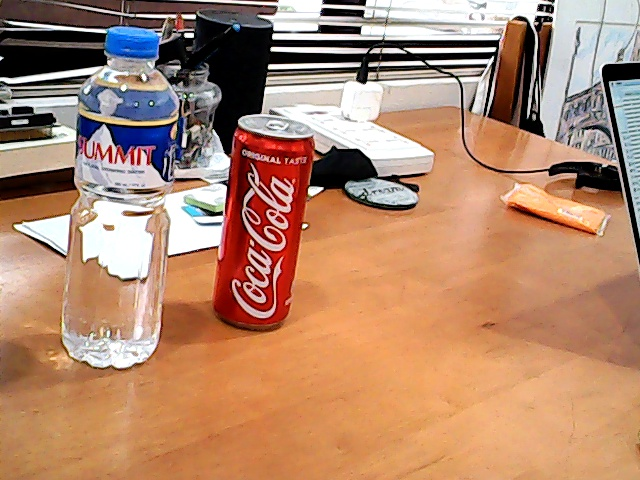Cola: (194, 104, 337, 351)
Summit Water: (43, 20, 194, 388)
